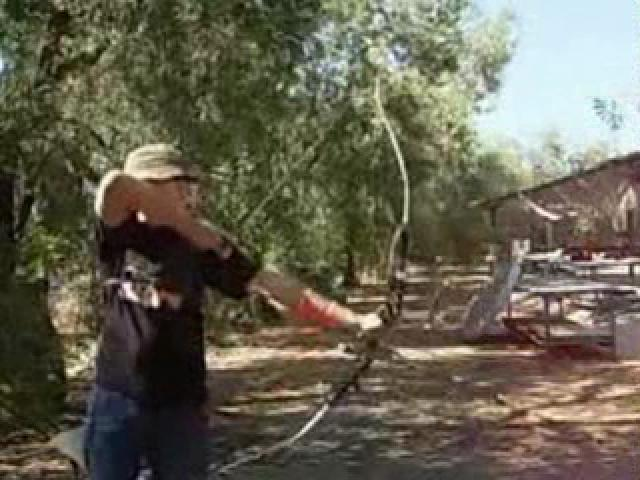I: (52, 119, 386, 480)
